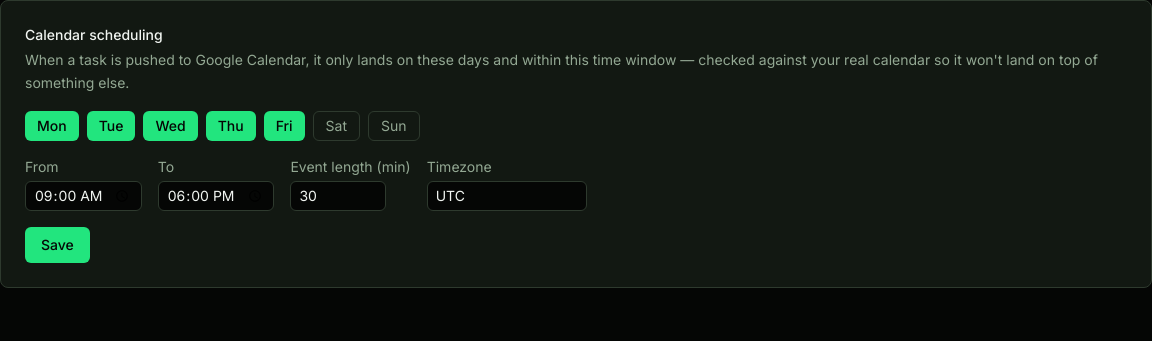
Scenario: shows the backend's error message when saving fails
What coordinates should you click on to do the following:
click the button "Save"
I would click on:
 (57, 245)
Its box is [25, 227, 90, 263].
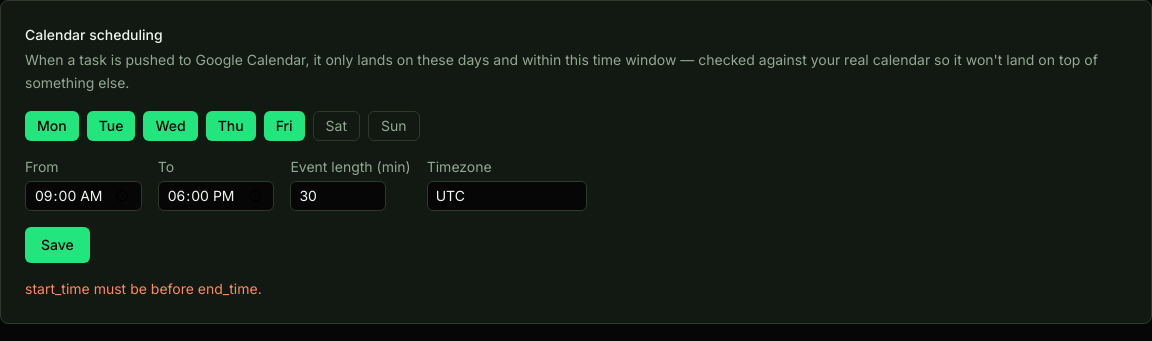
Expected: the text "start_time must be before end_time." is shown, [25, 280, 262, 297]
